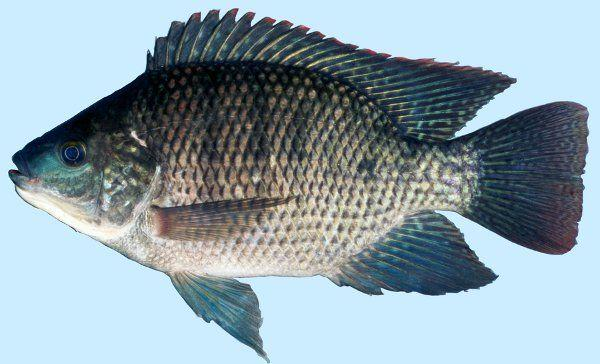Tilapia: (10, 11, 593, 361)
